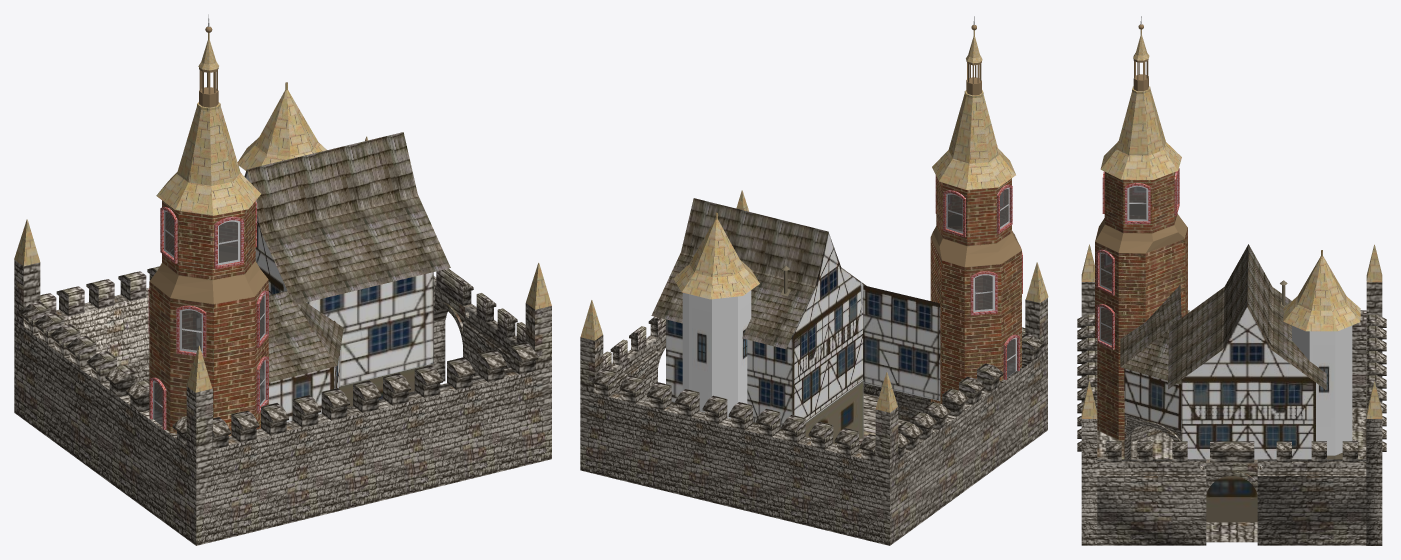
The model's file is fort.fbx.
3 views of the same model, side by side, from view 1: azimuth 30°, elevation 25°; view 2: azimuth 150°, elevation 25°; view 3: azimuth 270°, elevation 25° (orthographic). The views are drawn at different scales.
Parts seen in each view (by area): view 1: hradby, strecha_hneda, cihlova_zed, barak, strecha_svetla, vezicka, Okna, skla, vezicky, okenice; view 2: hradby, barak, cihlova_zed, strecha_hneda, strecha_svetla, bila_stena, vezicka, Okna, skla, vezicky, okenice, podstena (+1 smaller); view 3: hradby, barak, cihlova_zed, strecha_hneda, strecha_svetla, zem, bila_stena, vezicka, vezicky, Okna, skla, podstena (+1 smaller).
Part boxes in pixels (left/top/right/bottom): hradby: left=14, top=260, right=551, bottom=545; strecha_hneda: left=197, top=132, right=450, bottom=382; cihlova_zed: left=149, top=200, right=268, bottom=436; barak: left=197, top=172, right=433, bottom=421; strecha_svetla: left=156, top=33, right=326, bottom=215; vezicka: left=150, top=14, right=268, bottom=303; Okna: left=148, top=201, right=268, bottom=429; skla: left=154, top=212, right=264, bottom=425; vezicky: left=14, top=136, right=551, bottom=392; okenice: left=153, top=210, right=265, bottom=425; hradby: left=580, top=298, right=1047, bottom=545; barak: left=666, top=233, right=940, bottom=444; cihlova_zed: left=930, top=176, right=1021, bottom=403; strecha_hneda: left=651, top=198, right=867, bottom=349; strecha_svetla: left=673, top=30, right=1015, bottom=299; bila_stena: left=682, top=281, right=863, bottom=418; vezicka: left=931, top=16, right=1021, bottom=266; Okna: left=935, top=175, right=1022, bottom=379; skla: left=948, top=189, right=1015, bottom=376; vezicky: left=580, top=190, right=1048, bottom=412; okenice: left=946, top=187, right=1016, bottom=376; podstena: left=893, top=390, right=930, bottom=421; hradby: left=1077, top=282, right=1386, bottom=545; barak: left=1124, top=251, right=1342, bottom=522; cihlova_zed: left=1095, top=172, right=1187, bottom=440; strecha_hneda: left=1120, top=244, right=1326, bottom=389; strecha_svetla: left=1100, top=29, right=1360, bottom=331; zem: left=1097, top=408, right=1366, bottom=542; bila_stena: left=1181, top=325, right=1352, bottom=455; vezicka: left=1095, top=16, right=1187, bottom=253; vezicky: left=1081, top=244, right=1382, bottom=418; Okna: left=1096, top=168, right=1179, bottom=349; skla: left=1101, top=186, right=1146, bottom=343; podstena: left=1124, top=414, right=1181, bottom=459.
Bounding box in the file's own units: 1.34 × 1.76 × 1.21.
Materials: 11 (8 with a texture image).
